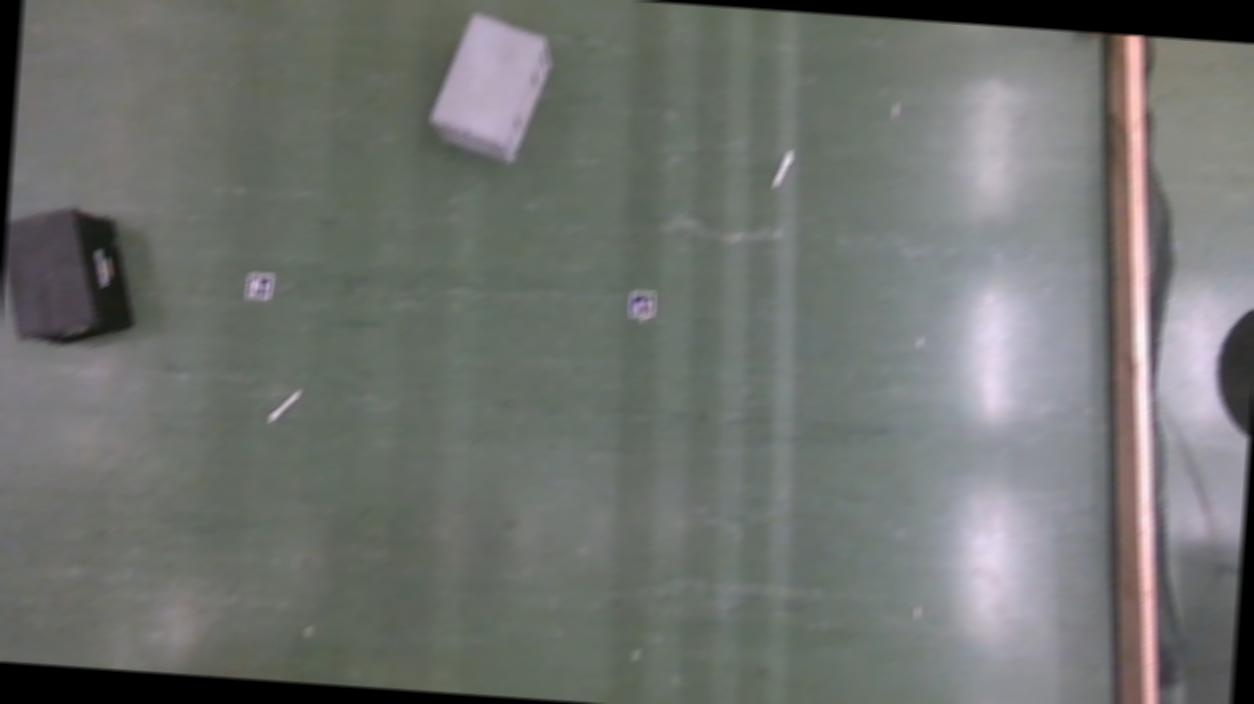probes: (270, 388, 301, 425), (774, 150, 793, 191)
rako: (0, 203, 141, 350), (428, 11, 556, 168)
